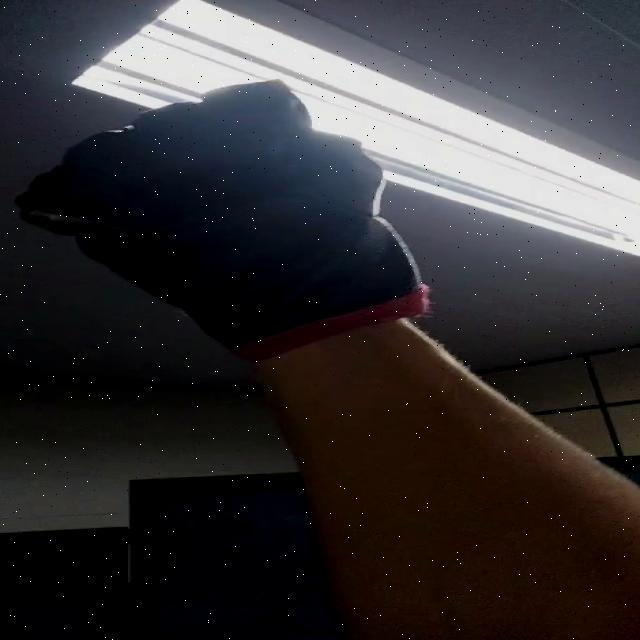Gloves: (17, 81, 428, 359)
